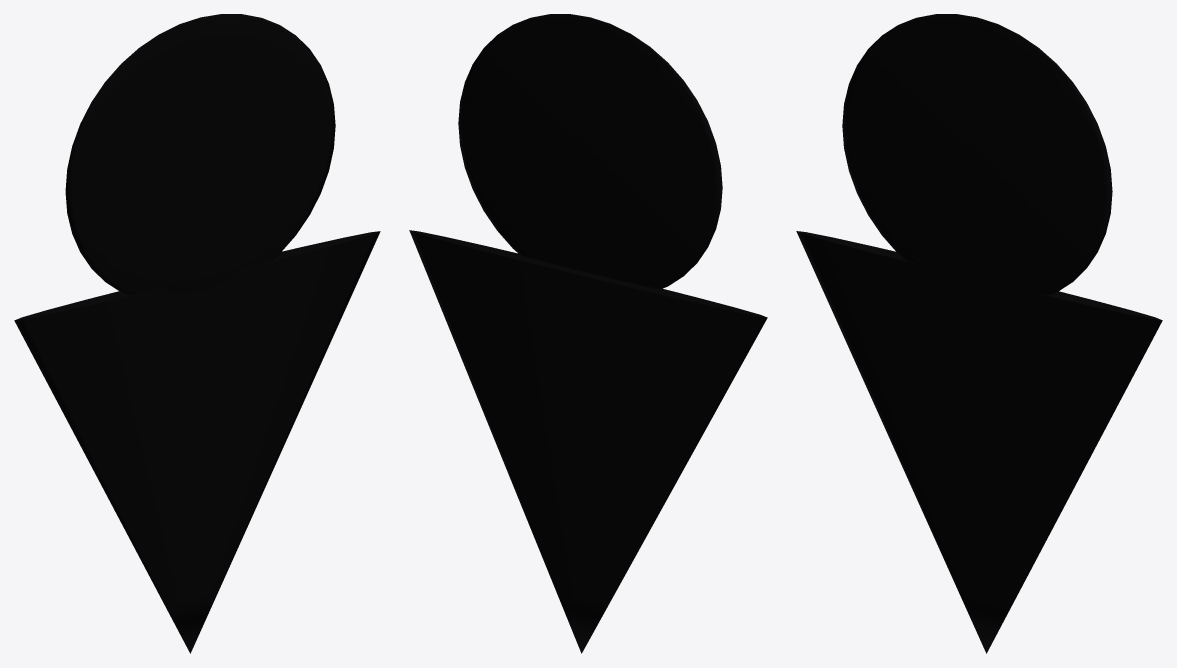
Rendered from kage.fbx.
The picture shows the model from 3 angles, left to right: view 1: azimuth 30°, elevation 25°; view 2: azimuth 150°, elevation 25°; view 3: azimuth 330°, elevation 25°; orthographic projection. The views are drawn at different scales.
Visible parts, largest first — view 1: pCone1, pSphere1; view 2: pCone1, pSphere1; view 3: pCone1, pSphere1.
Part boxes in pixels (x1,y1,x2,y2): pCone1: (14,231,380,653); pSphere1: (65,14,335,295); pCone1: (409,230,767,653); pSphere1: (458,14,722,289); pCone1: (796,231,1162,653); pSphere1: (842,14,1112,295).
Bounding box in the file's own units: 3.42 × 5.73 × 0.2027.
